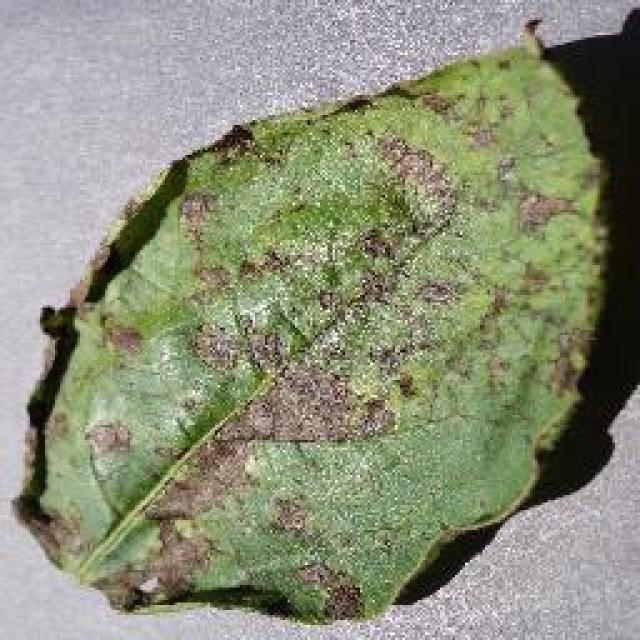early_blight: (10, 15, 618, 625)
